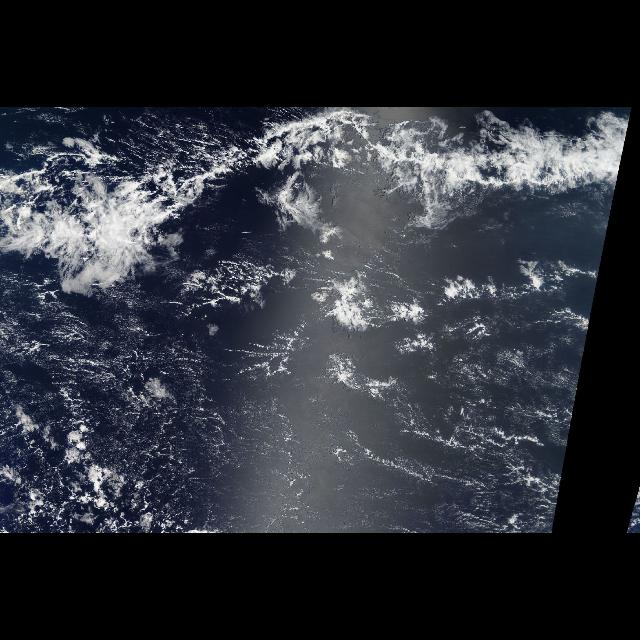Fish: (7, 124, 599, 286)
Gravel: (116, 402, 316, 528)
Sugar: (24, 315, 322, 507), (410, 336, 566, 534)
